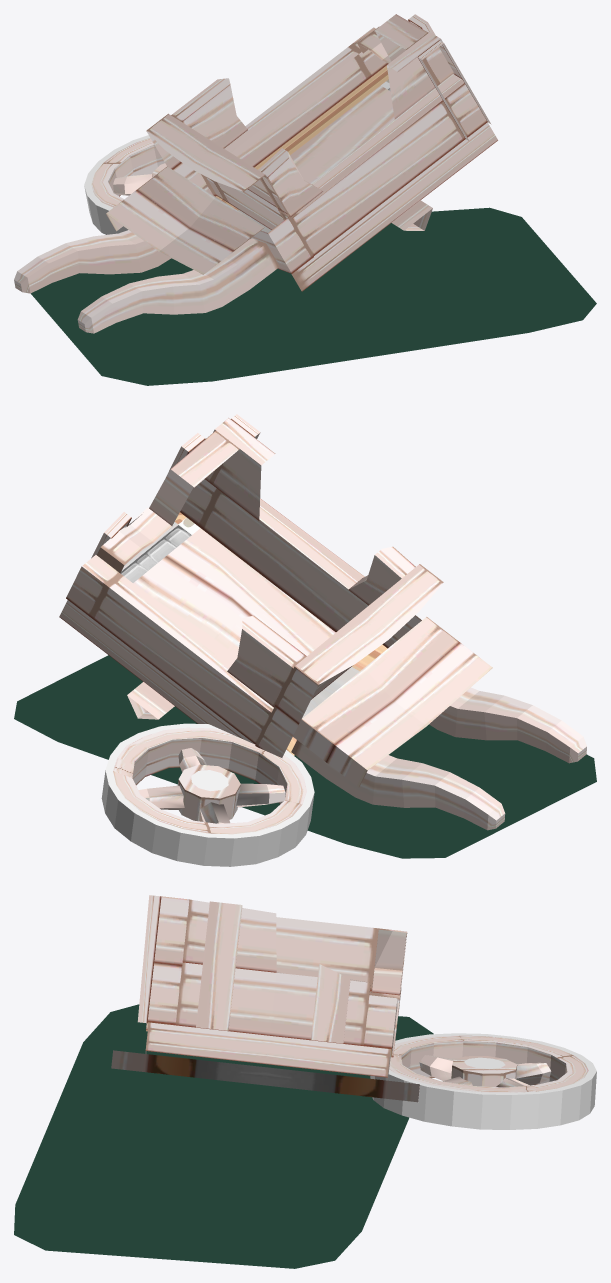
The model's file is HorseCartBroken.fbx.
3 views of the same model, one above another, from view 1: azimuth 30°, elevation 25°; view 2: azimuth 150°, elevation 25°; view 3: azimuth 270°, elevation 25° (orthographic). The views are drawn at different scales.
Parts seen in each view (by area): view 1: HorseCart_obstacle, ShadowSquareDark2, HorseCartWheel_obstacle; view 2: HorseCart_obstacle, ShadowSquareDark2, HorseCartWheel_obstacle; view 3: ShadowSquareDark2, HorseCart_obstacle, HorseCartWheel_obstacle.
Part boxes in pixels (x1,y1,x2,y2): HorseCart_obstacle: [14, 14, 497, 333]; ShadowSquareDark2: [31, 207, 596, 385]; HorseCartWheel_obstacle: [84, 135, 166, 234]; HorseCart_obstacle: [59, 414, 586, 830]; ShadowSquareDark2: [14, 655, 596, 858]; HorseCartWheel_obstacle: [101, 723, 314, 866]; ShadowSquareDark2: [14, 1004, 433, 1268]; HorseCart_obstacle: [111, 895, 419, 1102]; HorseCartWheel_obstacle: [370, 1033, 596, 1129].
Size of what is drawn, in the model's own units: 1.73 by 0.8722 by 1.57.
